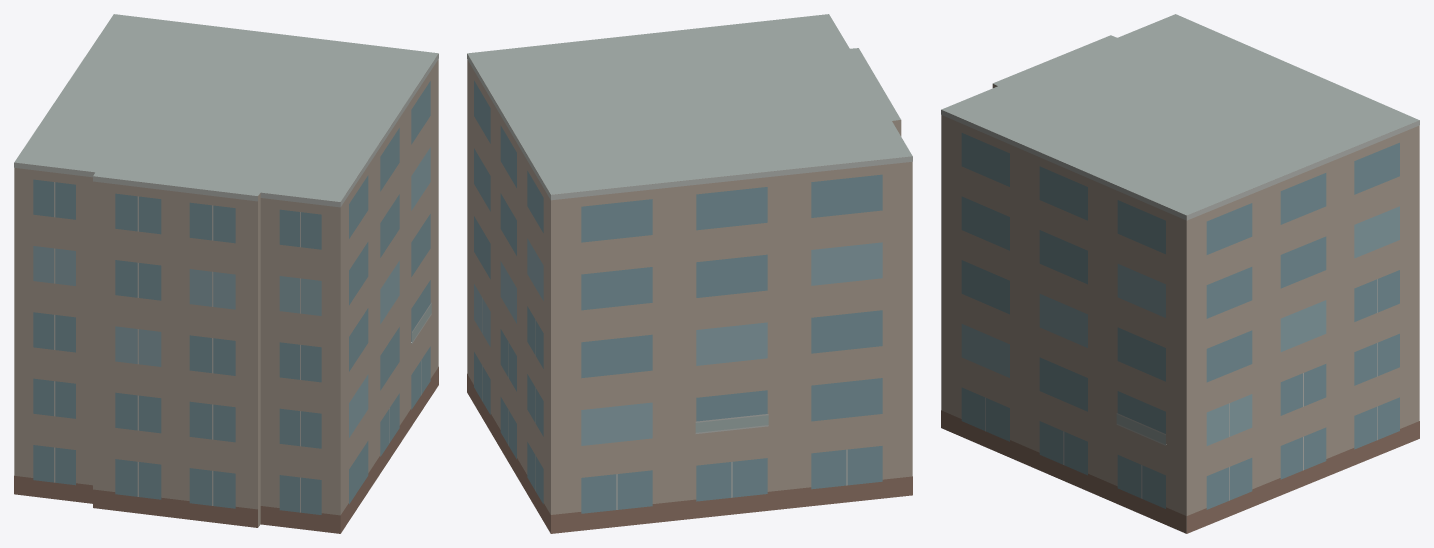
File: survey-upis-32991062.glb
The picture shows the model from 3 angles, left to right: view 1: azimuth 30°, elevation 25°; view 2: azimuth 150°, elevation 25°; view 3: azimuth 270°, elevation 25°; orthographic projection. The views are drawn at different scales.
Visible parts, largest first — view 1: survey-upis-32991062.tmp; view 2: survey-upis-32991062.tmp; view 3: survey-upis-32991062.tmp.
Part boxes in pixels (x1,y1,x2,y2): survey-upis-32991062.tmp: (14, 14, 438, 533); survey-upis-32991062.tmp: (467, 14, 912, 533); survey-upis-32991062.tmp: (941, 14, 1419, 533).
Bounding box in the file's own units: 20.71 × 15.25 × 20.79.
